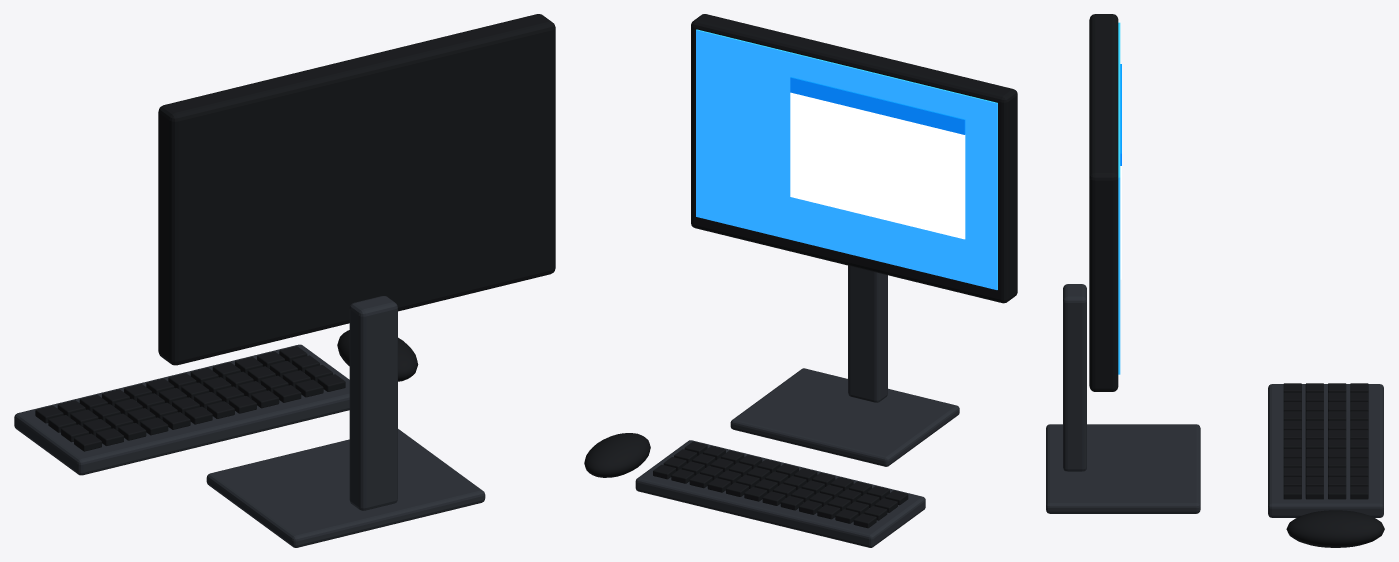
Rendered from computer.glb.
The picture shows the model from 3 angles, left to right: view 1: azimuth 30°, elevation 25°; view 2: azimuth 150°, elevation 25°; view 3: azimuth 270°, elevation 25°; orthographic projection. The views are drawn at different scales.
Visible parts, largest first — view 1: body; view 2: body; view 3: body.
Boxes of the visible parts, box(x1,y1,x2,y2) form: body: box(14, 14, 555, 547); body: box(584, 14, 1017, 547); body: box(1046, 14, 1384, 547).
Bounding box in the file's own units: 0.4 × 0.4395 × 0.351.
